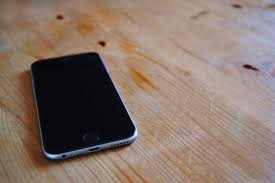mobil: (28, 49, 139, 162)
